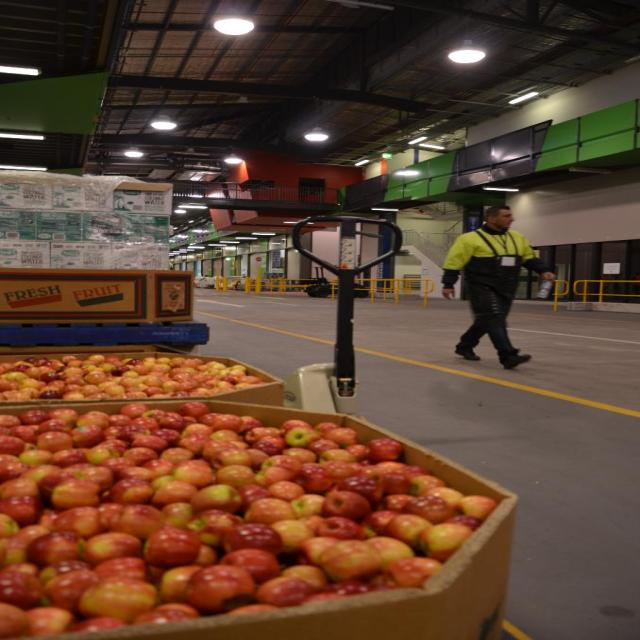Healty Apple: (1, 404, 494, 636), (0, 354, 267, 401), (78, 576, 153, 622)
